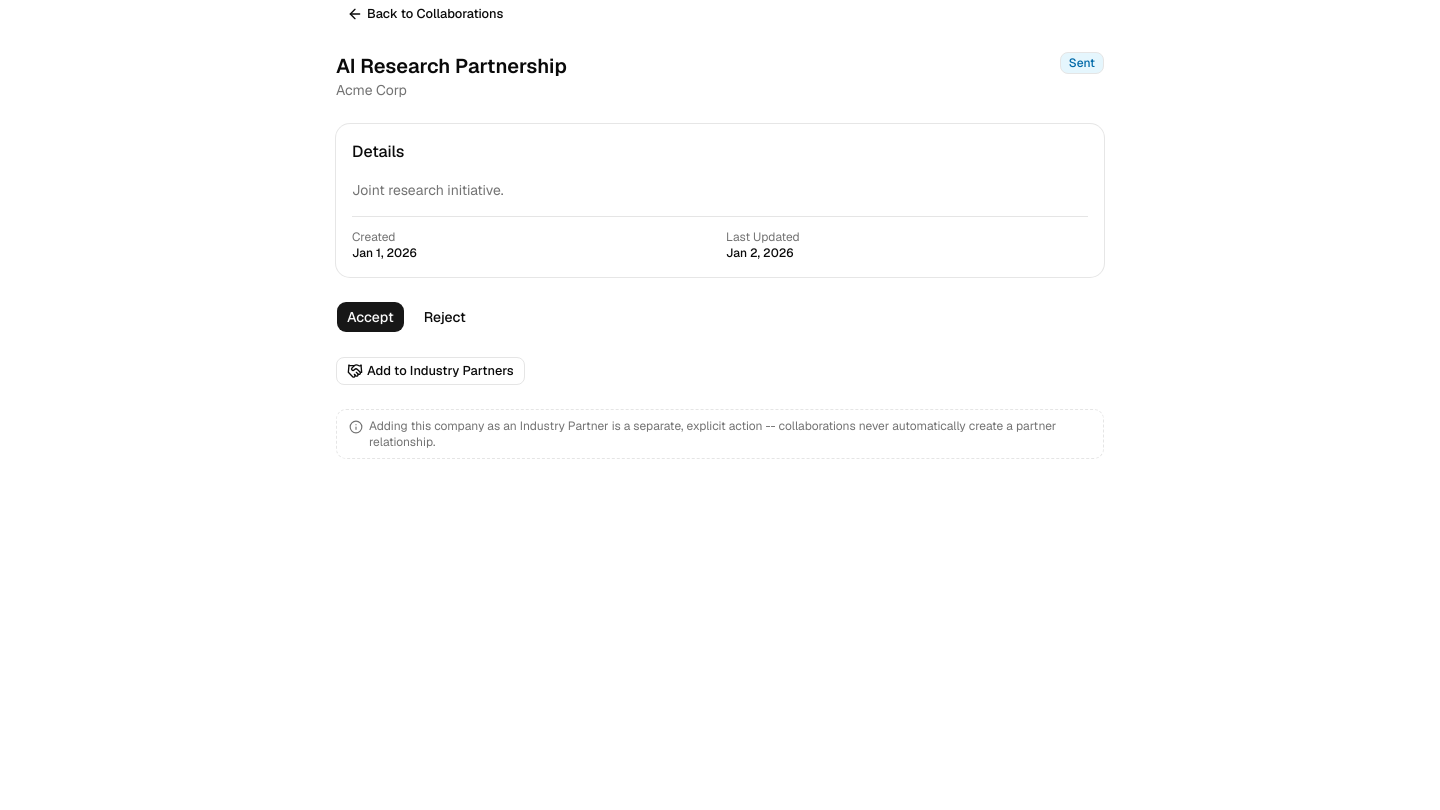
Test case: InstitutionCollaborationDetail › accepts a SENT proposal after confirmation
The width and height of the screenshot is (1440, 810).
Expected: the heading "AI Research Partnership" is shown, [336,52,567,80]
Click the button "Accept" at (370, 317), box [336,301,405,333]
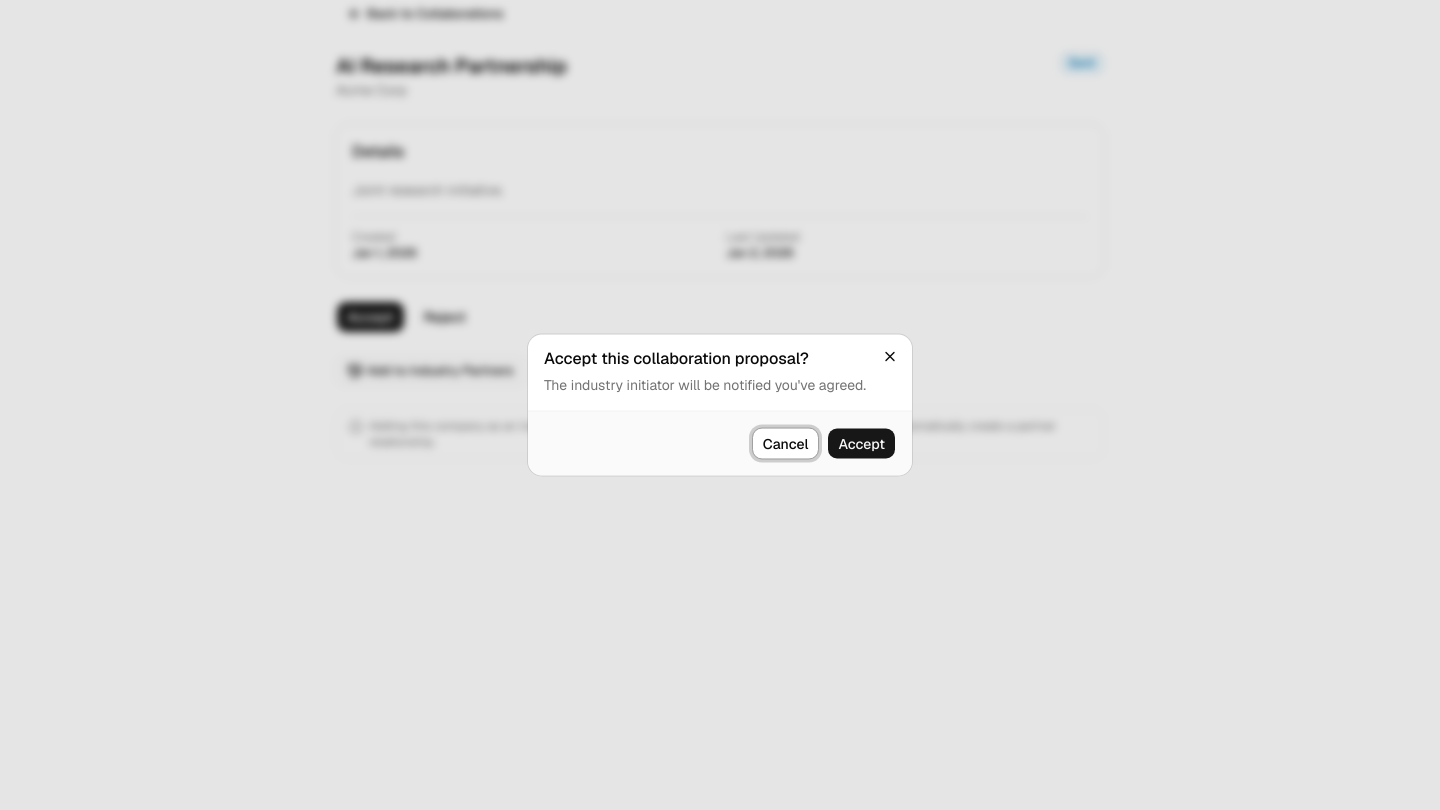
Click the button "Accept" at (862, 444), box [827,428,896,460]
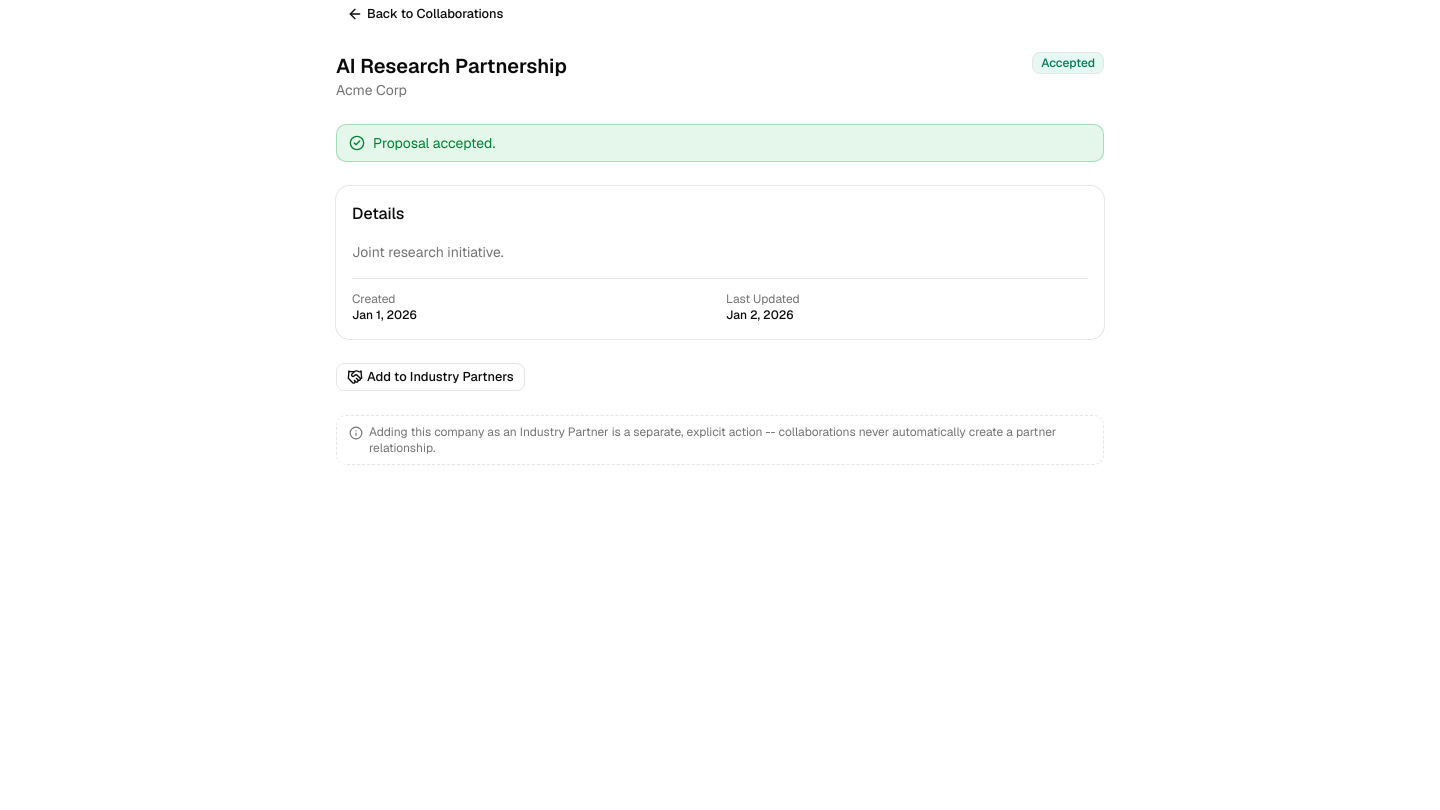
Result: the text "Proposal accepted." is shown at [373,133,495,153]
